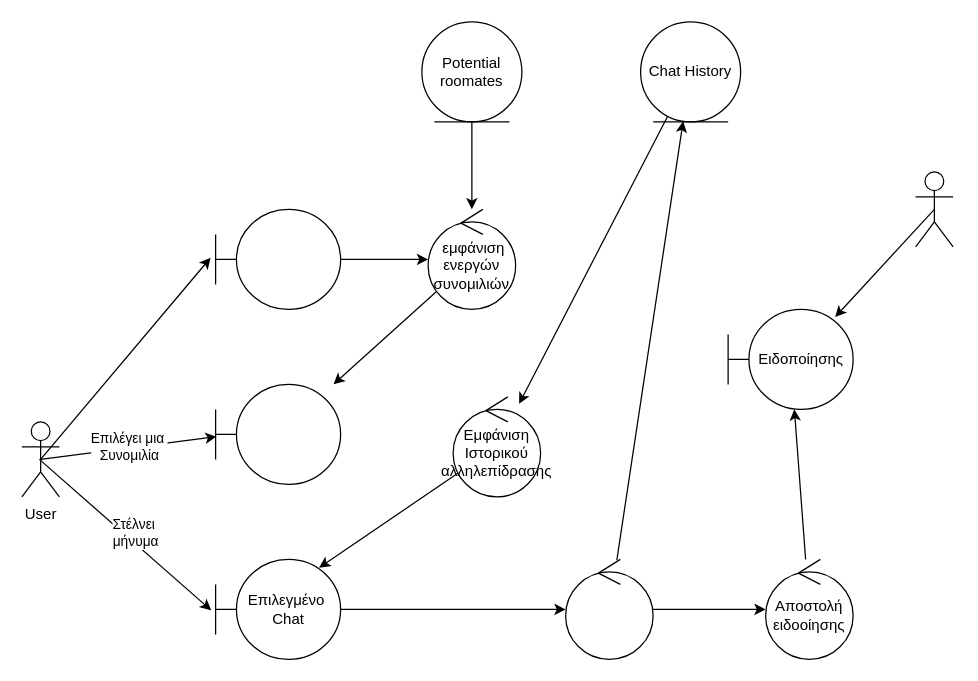
The diagram is 978 pixels wide and 681 high, and some of its shapes have lost their labels. The shapes that lost their labels are listed below. From the top down, each one's centre as x and y in pixels, then its label:
(933,209): User 2
(277,258): Συνομιλίες
(277,433): Λίστα ενεργών Συνομιλιών
(608,608): αποθήκευση μηνύματος
